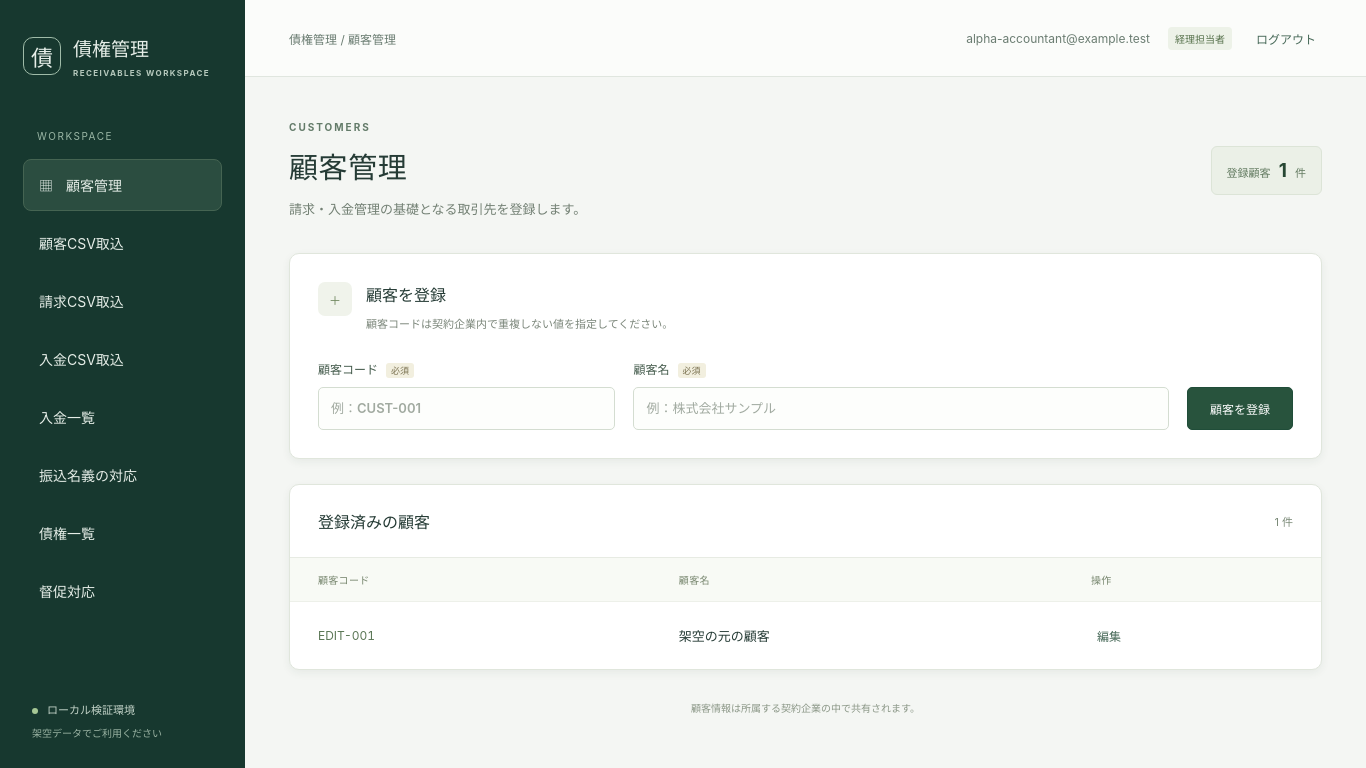
Scenario: Versioned customer editing › uses the generated update operation with expected version and rereads the stored list after success
Step 1. Click the button with aria-label "顧客 EDIT-001 を編集" → (1109, 635), box [1091,621,1127,650]
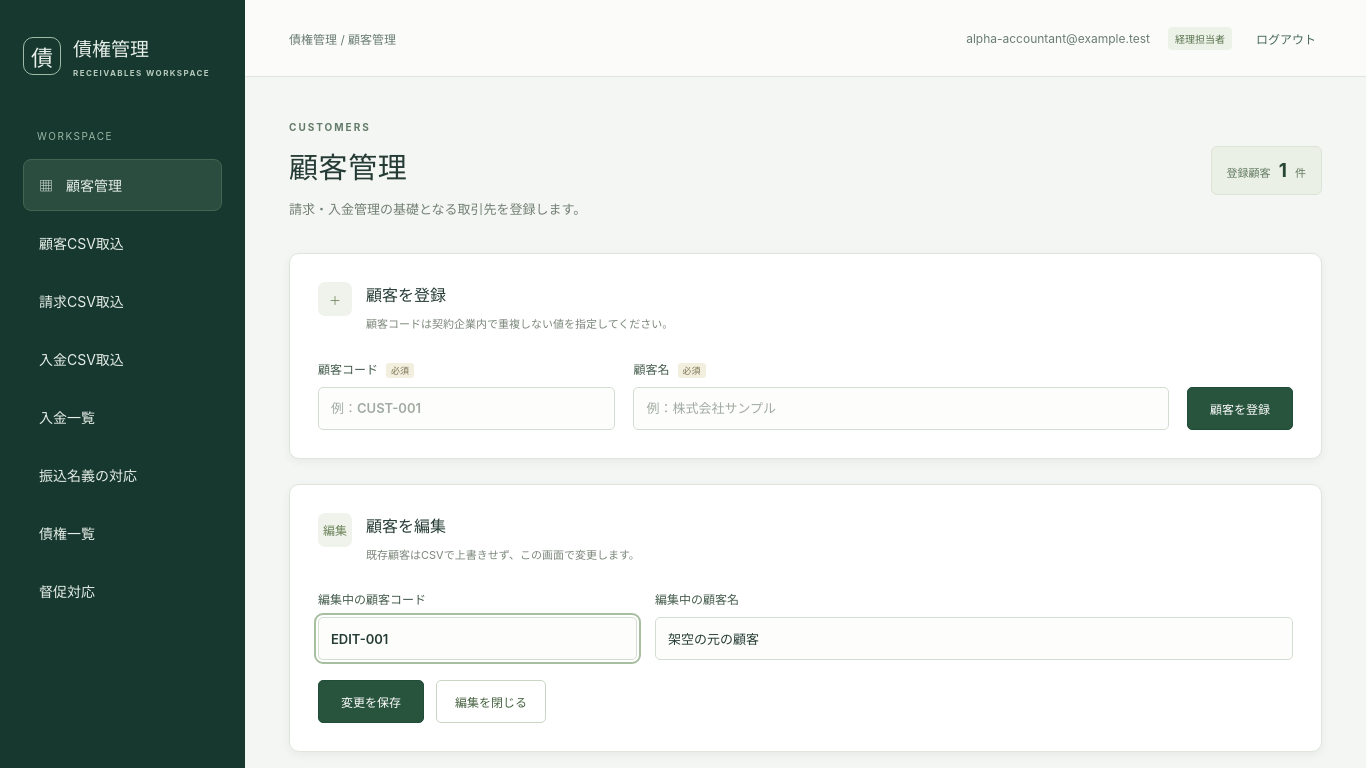
Step 2. Replace the text in the field labelled "編集中の顧客名" with "自分が入力した名称" → (974, 639), box [655,618,1293,660]
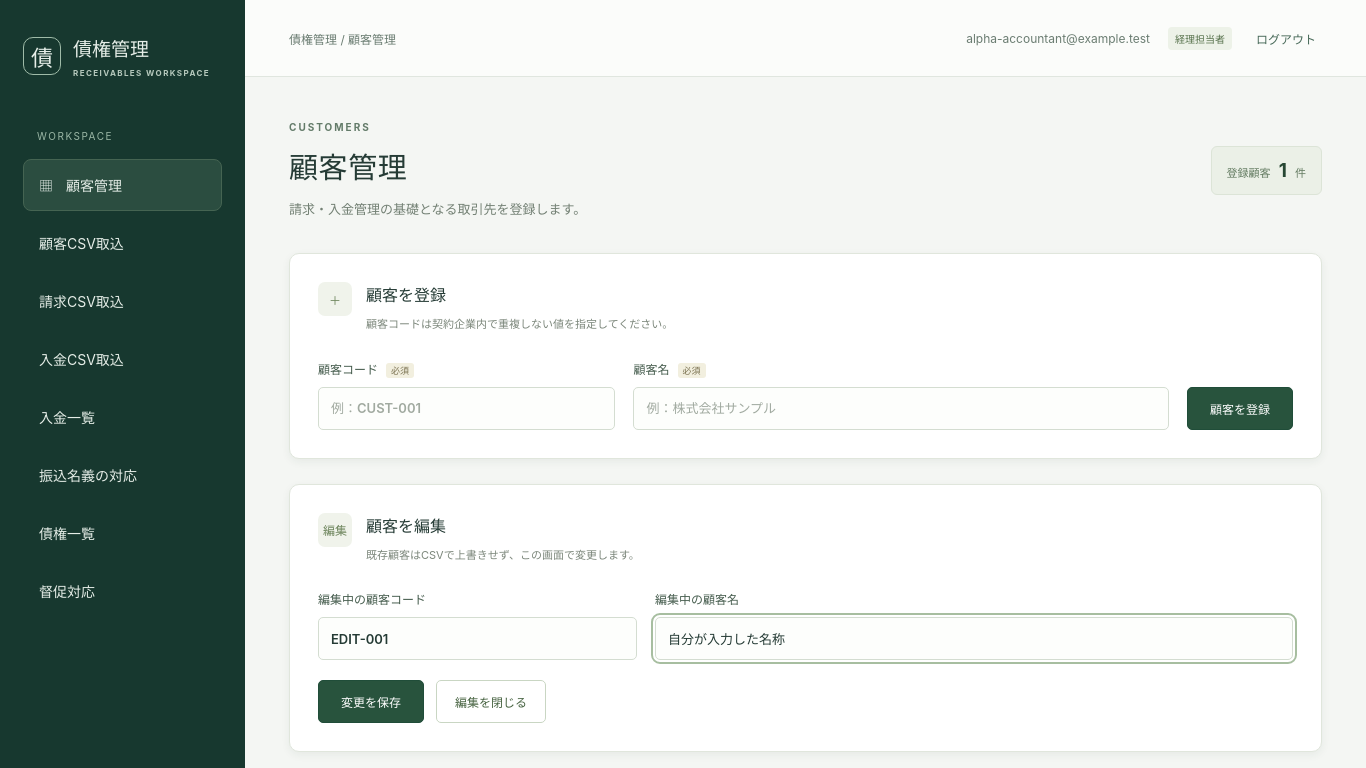
Step 3. Click the button "変更を保存" → (371, 702), box [318,680,424,724]
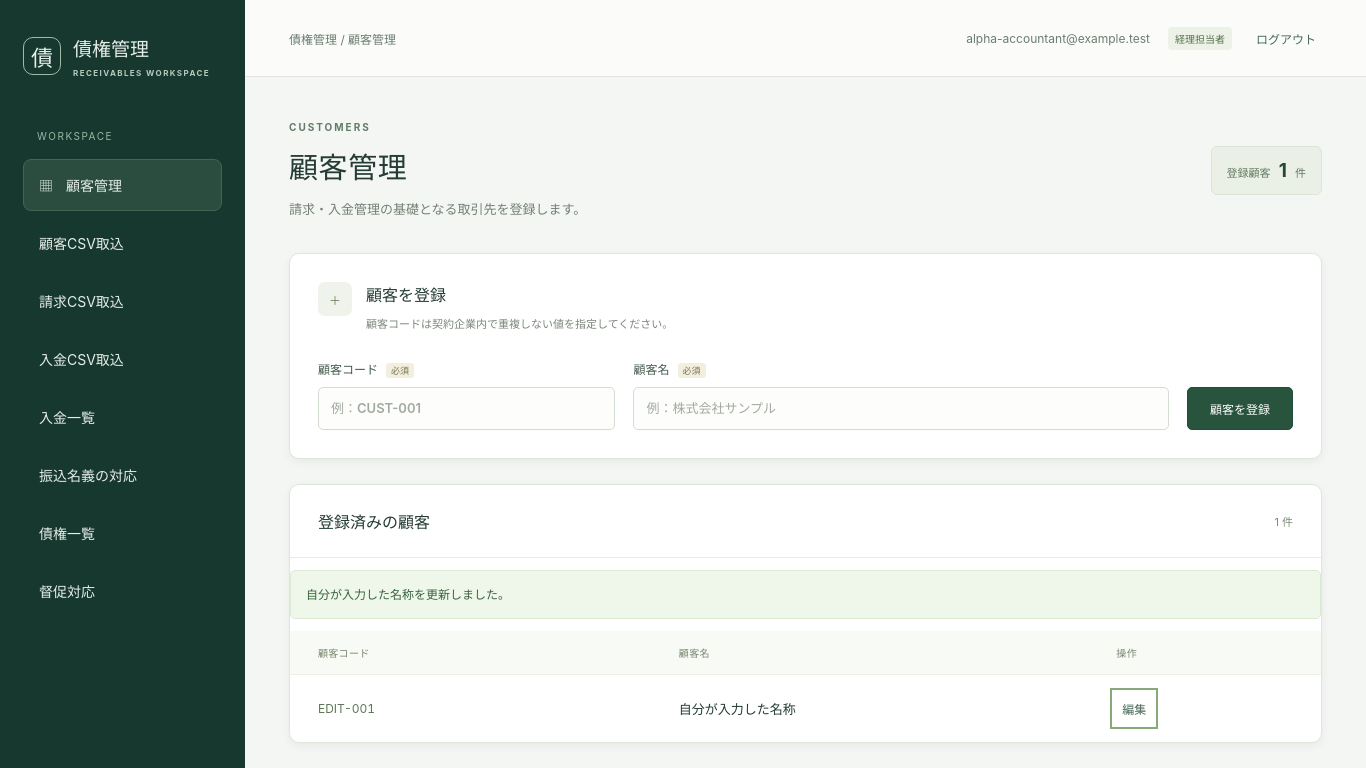
Expected: the message shows "自分が入力した名称を更新しました", [306,587,510,602]
Expected: the text "自分が入力した名称" is shown, [651,675,1088,742]
